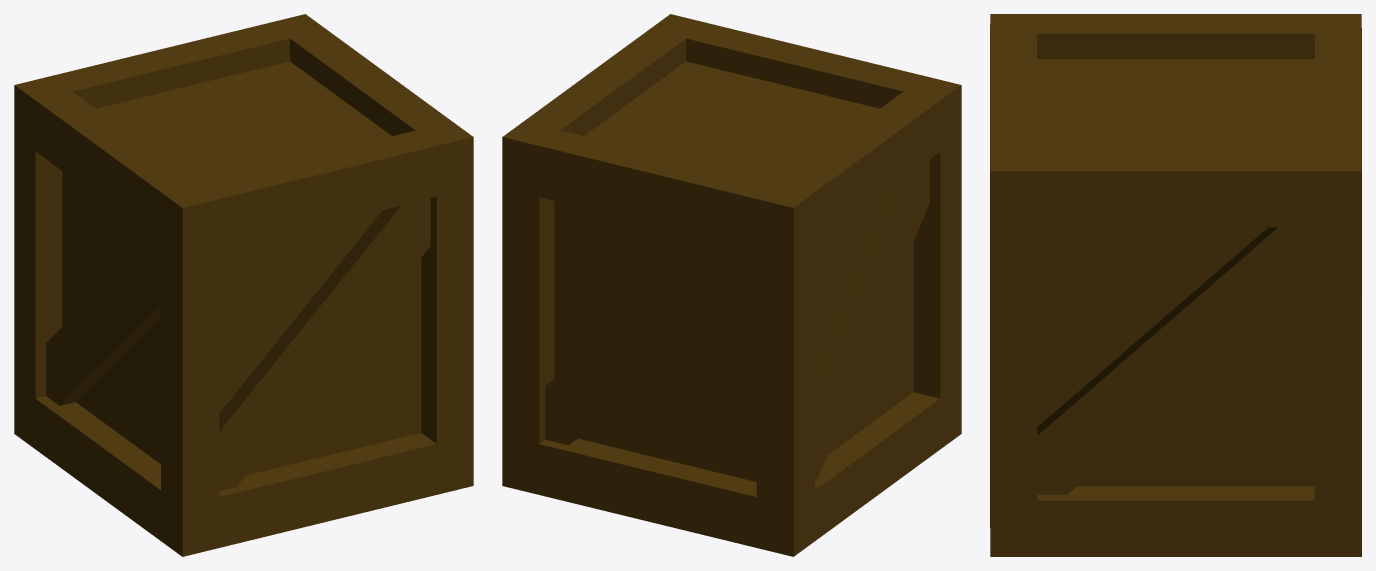
The picture shows the model from 3 angles, left to right: view 1: azimuth 30°, elevation 25°; view 2: azimuth 150°, elevation 25°; view 3: azimuth 270°, elevation 25°; orthographic projection. The views are drawn at different scales.
Parts seen in each view (by area): view 1: pasted__Cube.016; view 2: pasted__Cube.016; view 3: pasted__Cube.016.
Boxes of the visible parts, x1,y1,x2,y2 form: pasted__Cube.016: (14, 14, 473, 556); pasted__Cube.016: (502, 14, 961, 556); pasted__Cube.016: (990, 14, 1361, 556).
Bounding box in the file's own units: 69 × 79.01 × 69.
